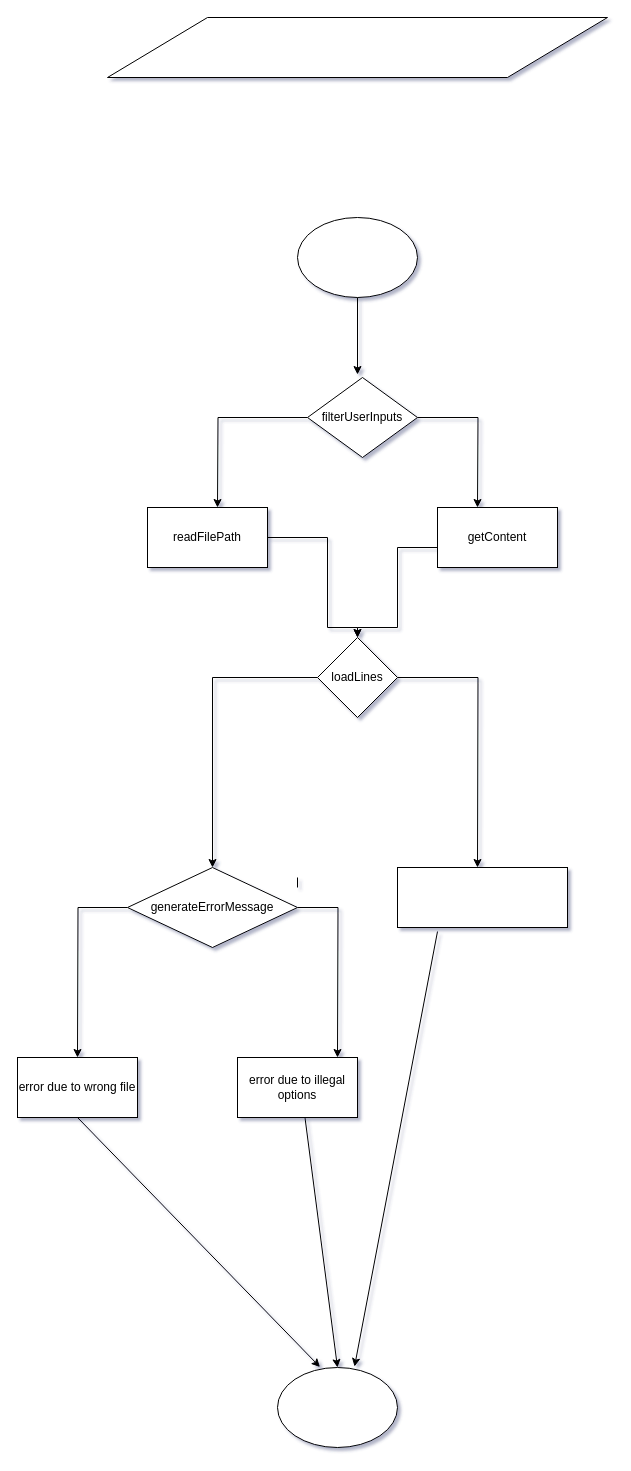
This 631x1471 diagram has some shape labels left out. Each missing label, with the centre of its shape:
end: point 337,1407
joinLastRequiredLines: point 482,897
START: point 357,257
TAIL: point 357,47
